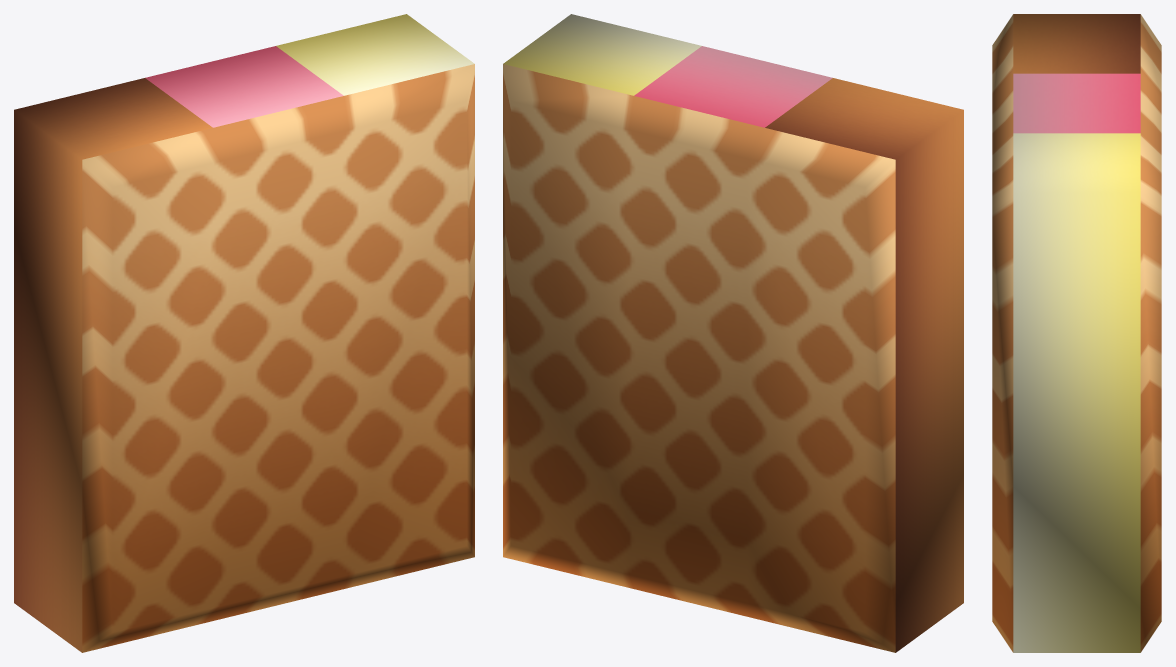
The model's file is m_SandwichIceCream01.fbx.
3 renders of one model, left to right at view 1: azimuth 30°, elevation 25°; view 2: azimuth 150°, elevation 25°; view 3: azimuth 270°, elevation 25°, orthographic. The views are drawn at different scales.
Visible parts, largest first — view 1: m_SandwichIceCream01; view 2: m_SandwichIceCream01; view 3: m_SandwichIceCream01.
Boxes of the visible parts, x1,y1,x2,y2 form: m_SandwichIceCream01: [14, 14, 474, 652]; m_SandwichIceCream01: [503, 14, 963, 652]; m_SandwichIceCream01: [992, 14, 1161, 652].
Bounding box in the file's own units: 10 × 12 × 4.
